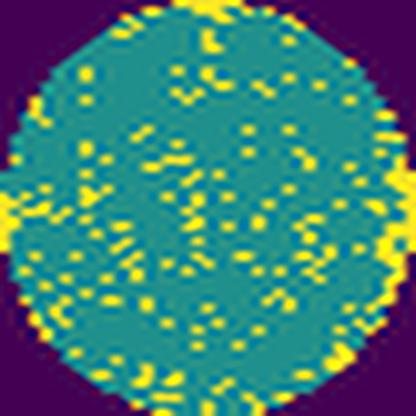Edge-Loc: (374, 145, 415, 329), (0, 188, 30, 258), (165, 0, 247, 25)
